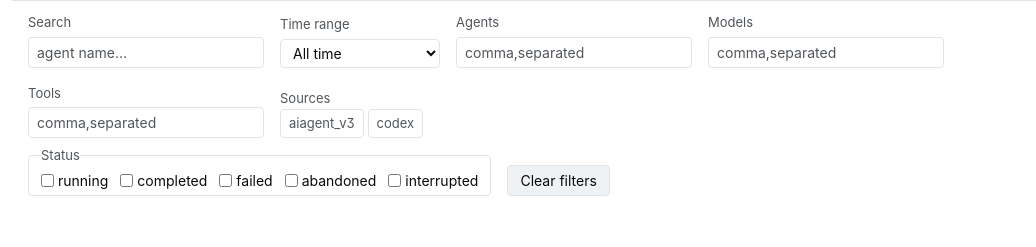
FilterBar › checking a status box adds it to the URL
The width and height of the screenshot is (1036, 247).
Click the checkbox labelled "completed".
click(127, 180)  # box [120,174,133,186]
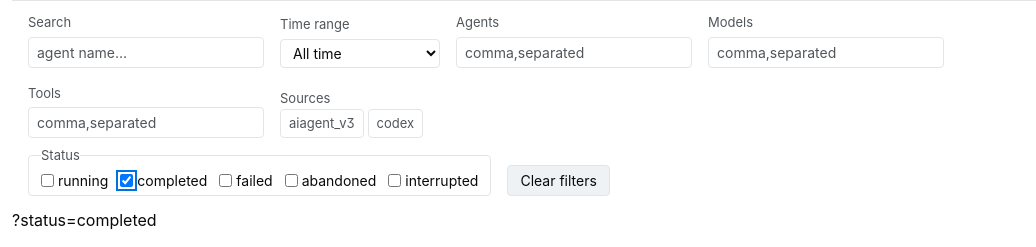
Check: the text with test id "loc" shows "status=completed", box [12,210,157,230]
